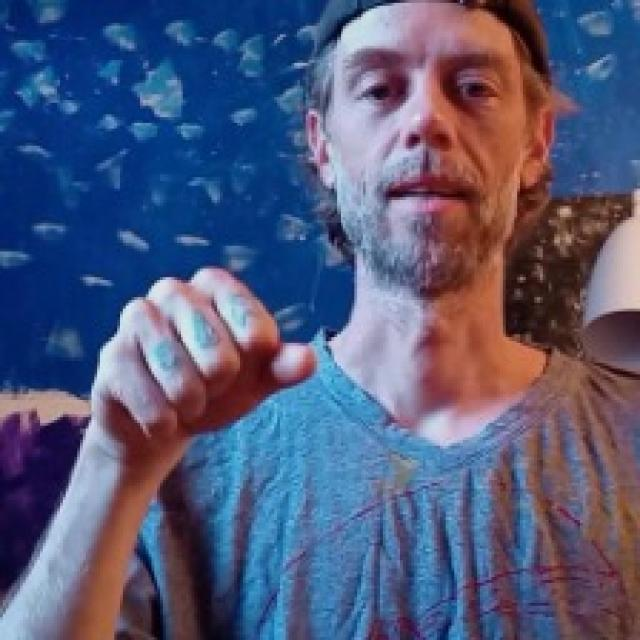yes: (83, 258, 320, 464)
